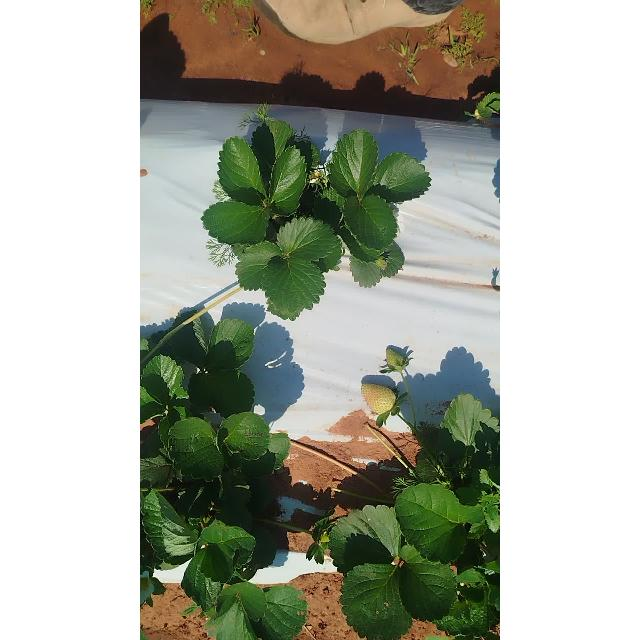no-maduro: (360, 382, 396, 416), (385, 349, 405, 369)
